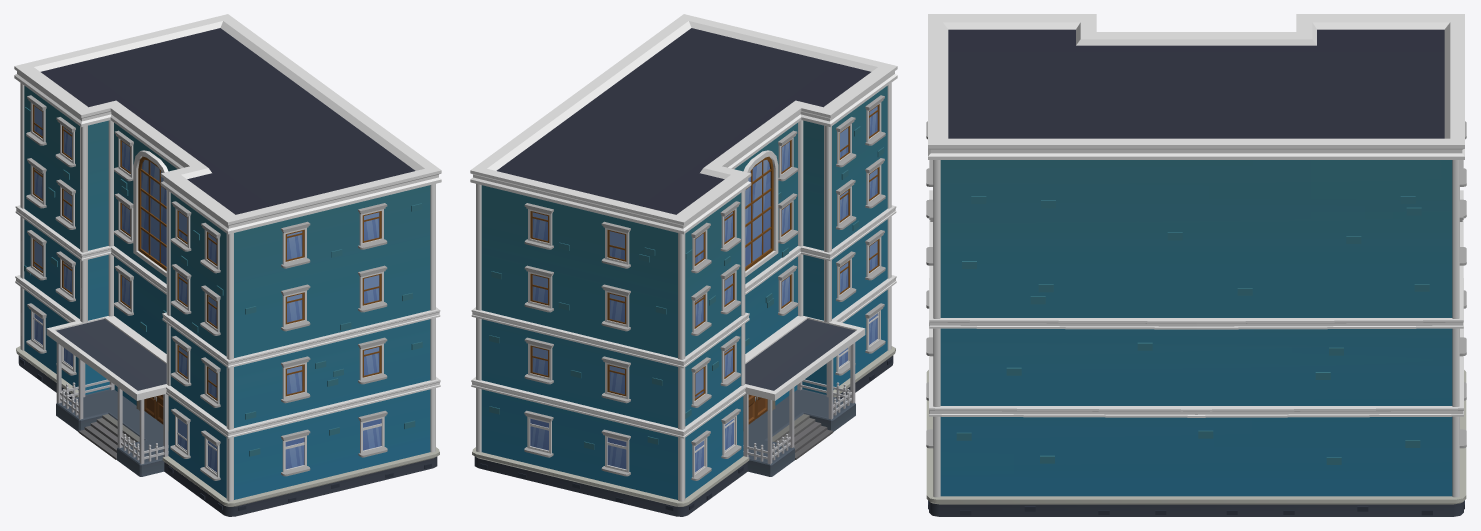
Rendered from Building_5_3_H.fbx.
3 renders of one model, left to right at view 1: azimuth 30°, elevation 25°; view 2: azimuth 150°, elevation 25°; view 3: azimuth 270°, elevation 25°, orthographic. The views are drawn at different scales.
Parts seen in each view (by area): view 1: Building_5_3_H; view 2: Building_5_3_H; view 3: Building_5_3_H.
Part boxes in pixels (bbox=[...]): Building_5_3_H: bbox=[14, 14, 441, 516]; Building_5_3_H: bbox=[470, 14, 897, 516]; Building_5_3_H: bbox=[926, 14, 1466, 516].
Size of the model in its own units: 1251 by 1450 by 1908.
